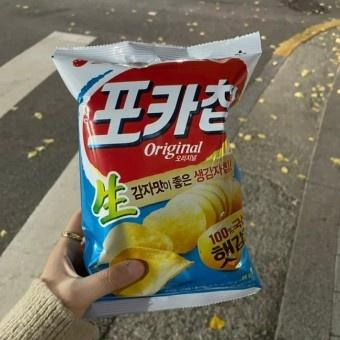snack: (52, 29, 264, 318)
